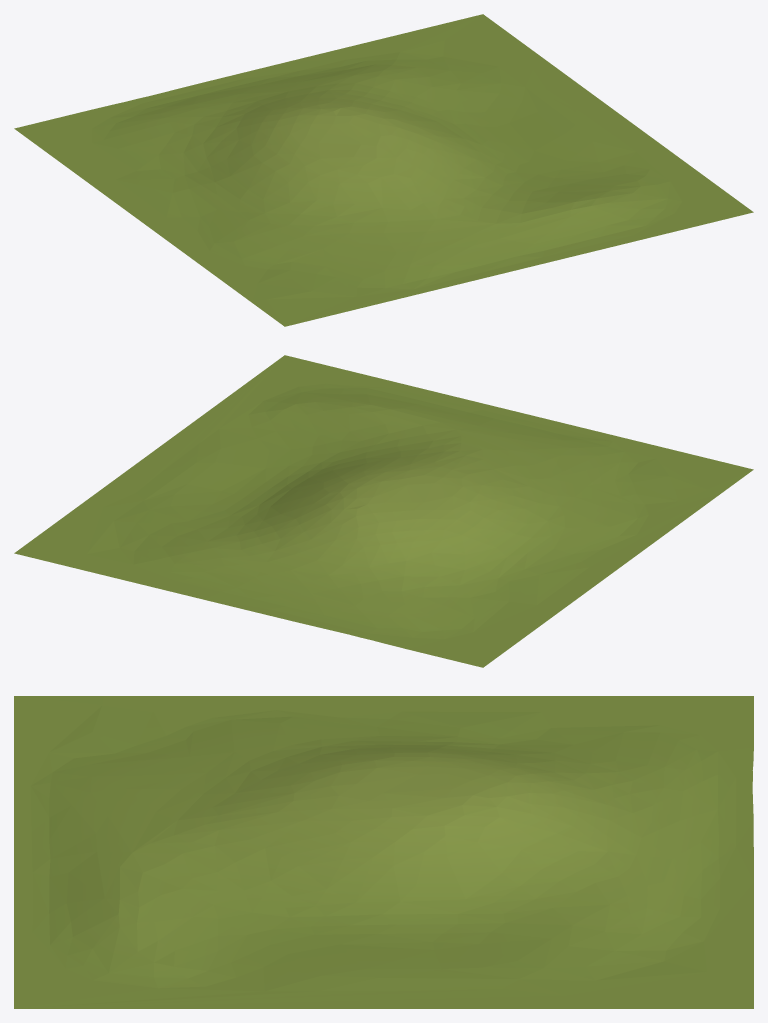
File: Terrain_02.fbx
3 views of the same model, one above another, from view 1: azimuth 30°, elevation 25°; view 2: azimuth 150°, elevation 25°; view 3: azimuth 270°, elevation 25° (orthographic). The views are drawn at different scales.
Visible parts, largest first — view 1: Terrain_02; view 2: Terrain_02; view 3: Terrain_02.
Part boxes in pixels (x1,y1,x2,y2): Terrain_02: [14, 14, 753, 326]; Terrain_02: [14, 355, 753, 667]; Terrain_02: [14, 696, 753, 1008].
Bounding box in the file's own units: 128 × 9.42 × 128.
